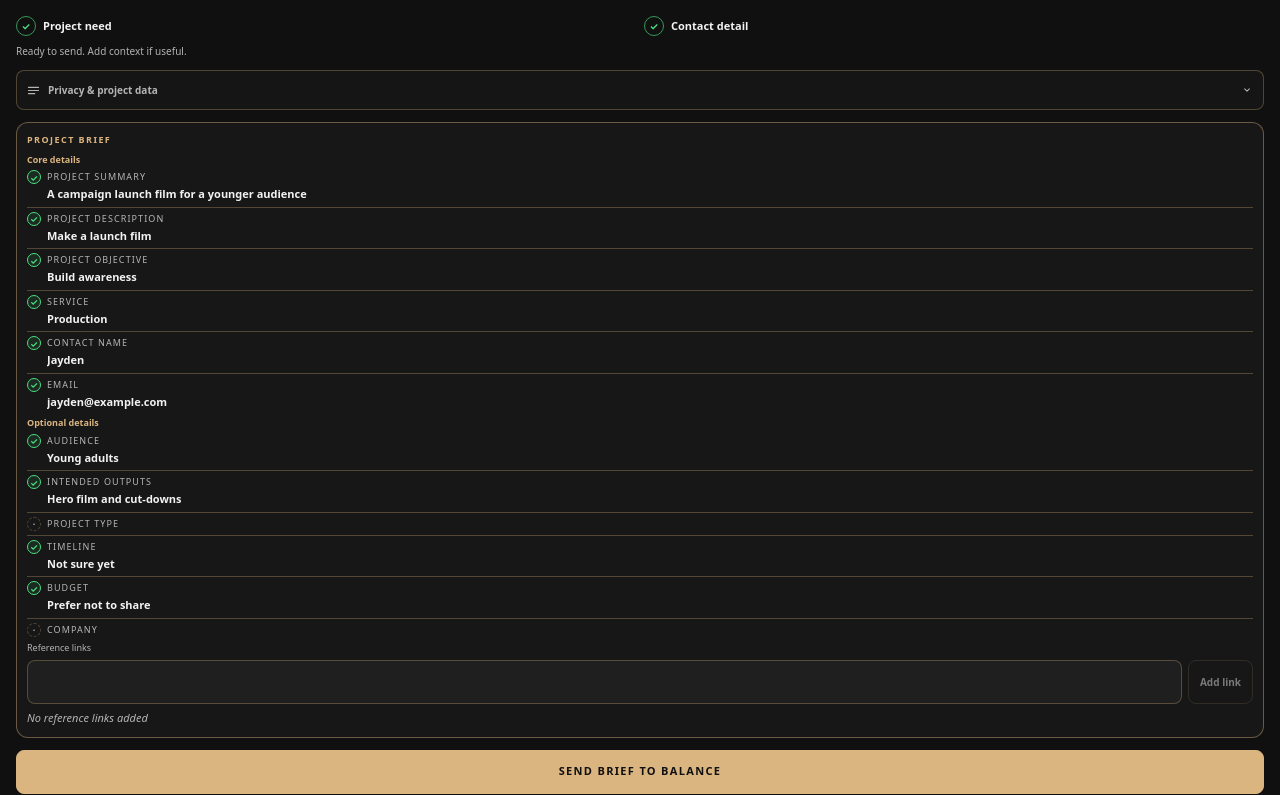
Test case: ReviewPanel › keeps contact actions out of the brief and exposes a clear data manager
Click the heading "Privacy & project data" at (103, 90), box [16,70,1264,110]
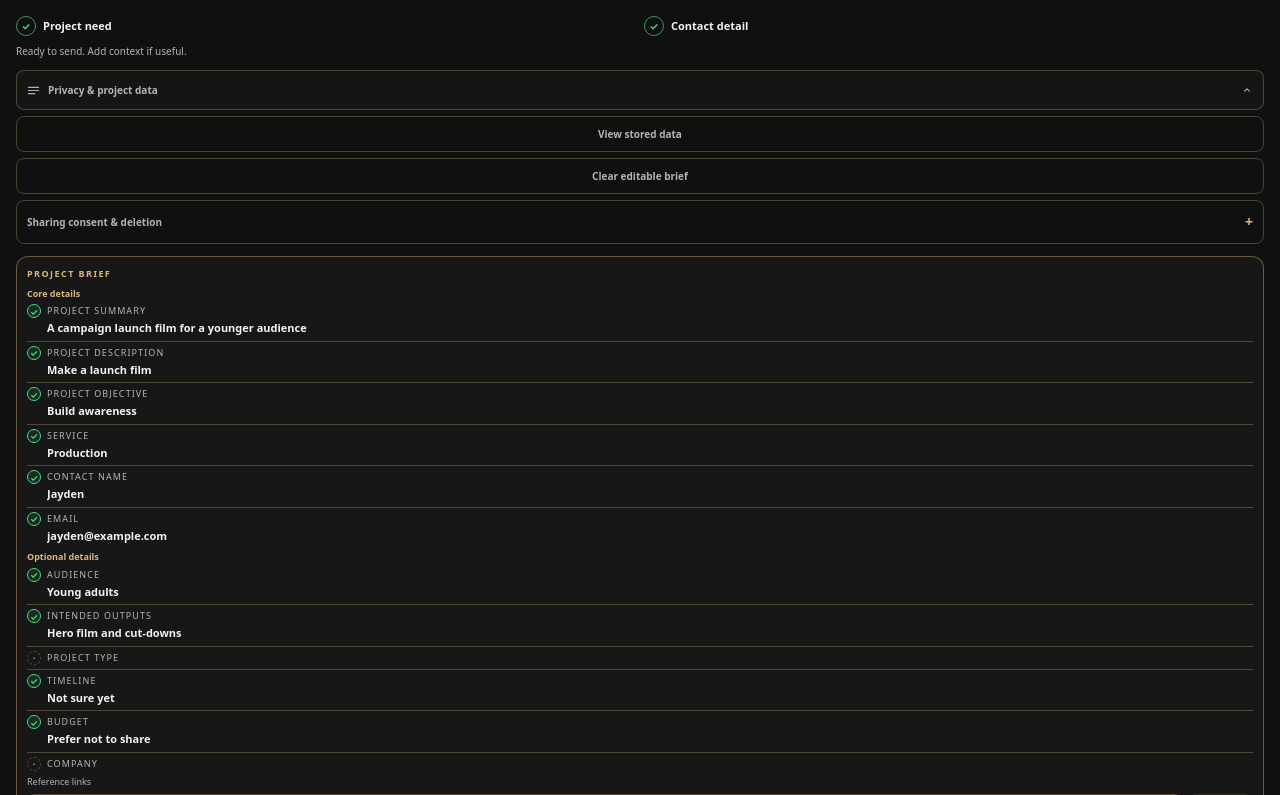
Click the heading "Sharing consent & deletion" at (94, 222), box [16,200,1264,244]
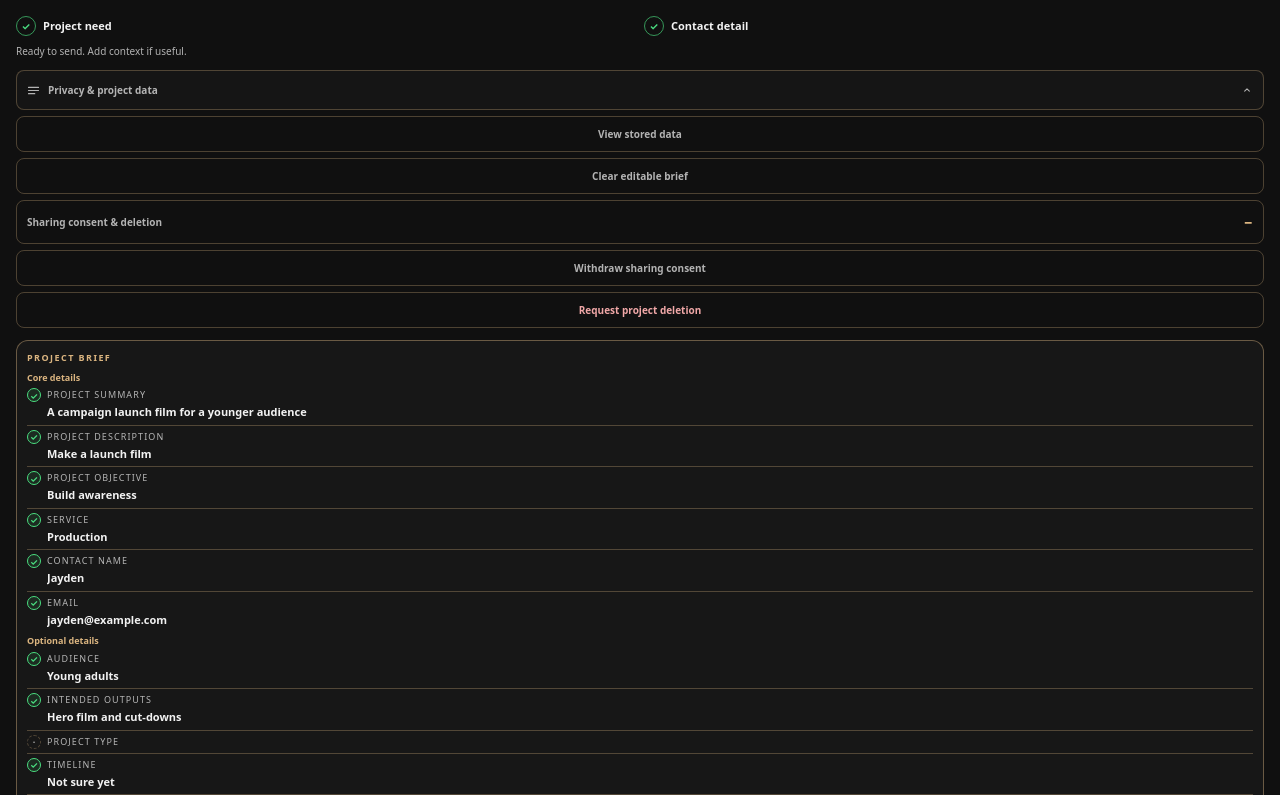
Now the button "Request project deletion" is shown, box [16,292,1264,328]
